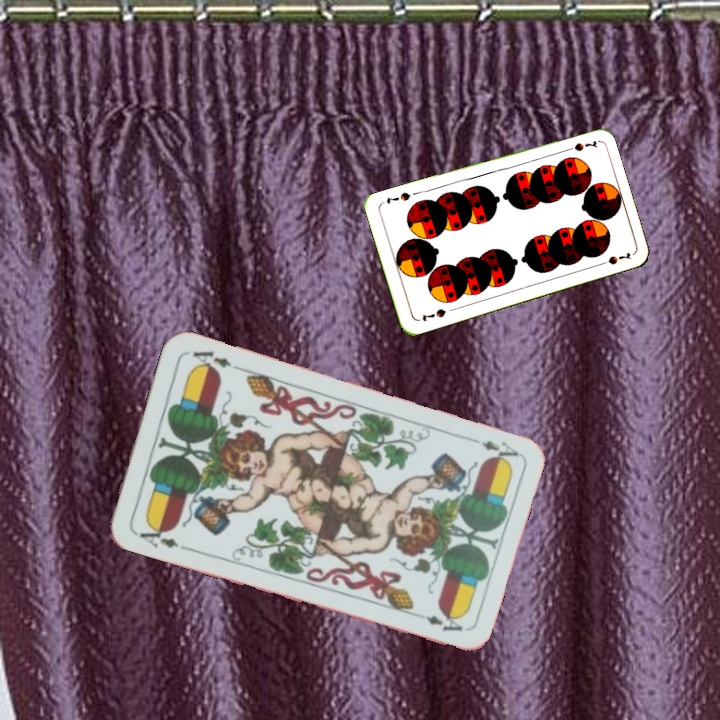EA: (130, 519, 188, 553), (463, 433, 521, 465)
S7: (559, 136, 599, 155), (418, 305, 448, 324)
